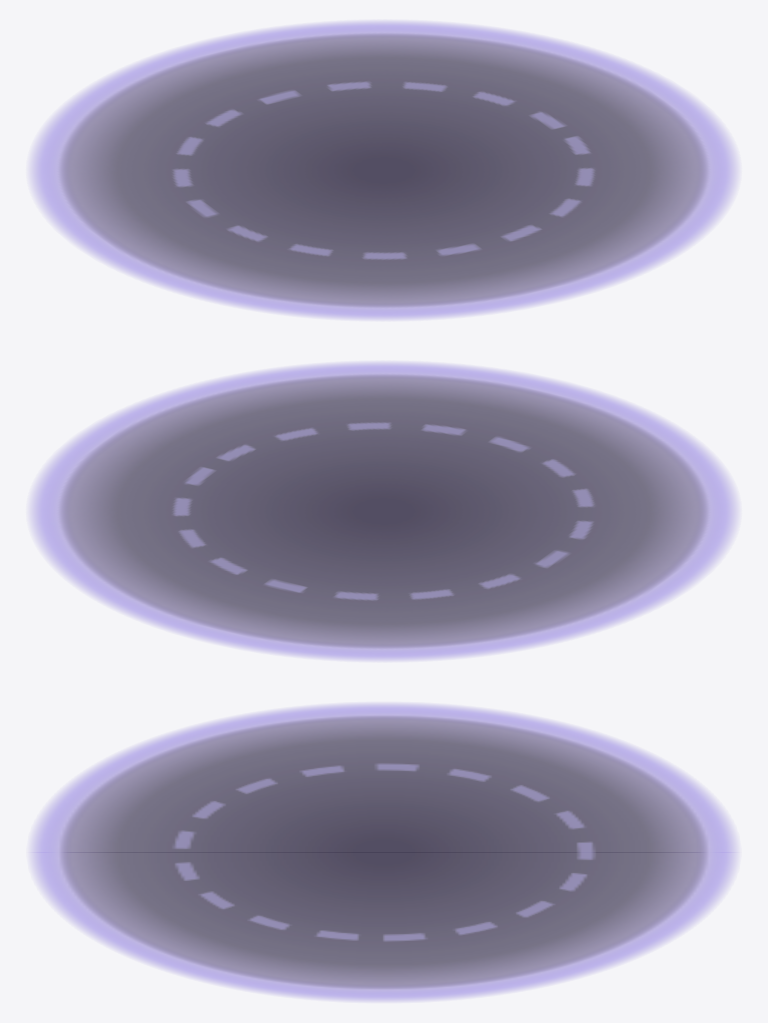
The model's file is fc_disc.glb.
The picture shows the model from 3 angles, top to bottom: view 1: azimuth 30°, elevation 25°; view 2: azimuth 150°, elevation 25°; view 3: azimuth 270°, elevation 25°; orthographic projection.
Visible parts, largest first — view 1: fc_disc; view 2: fc_disc; view 3: fc_disc.
Part boxes in pixels (box(x1,y1,x2,y2)): fc_disc: box(30, 21, 737, 319); fc_disc: box(30, 362, 737, 660); fc_disc: box(29, 703, 738, 1001).
Bounding box in the file's own units: 2 × 1.22e-16 × 2.
1 material, 1 textured.
